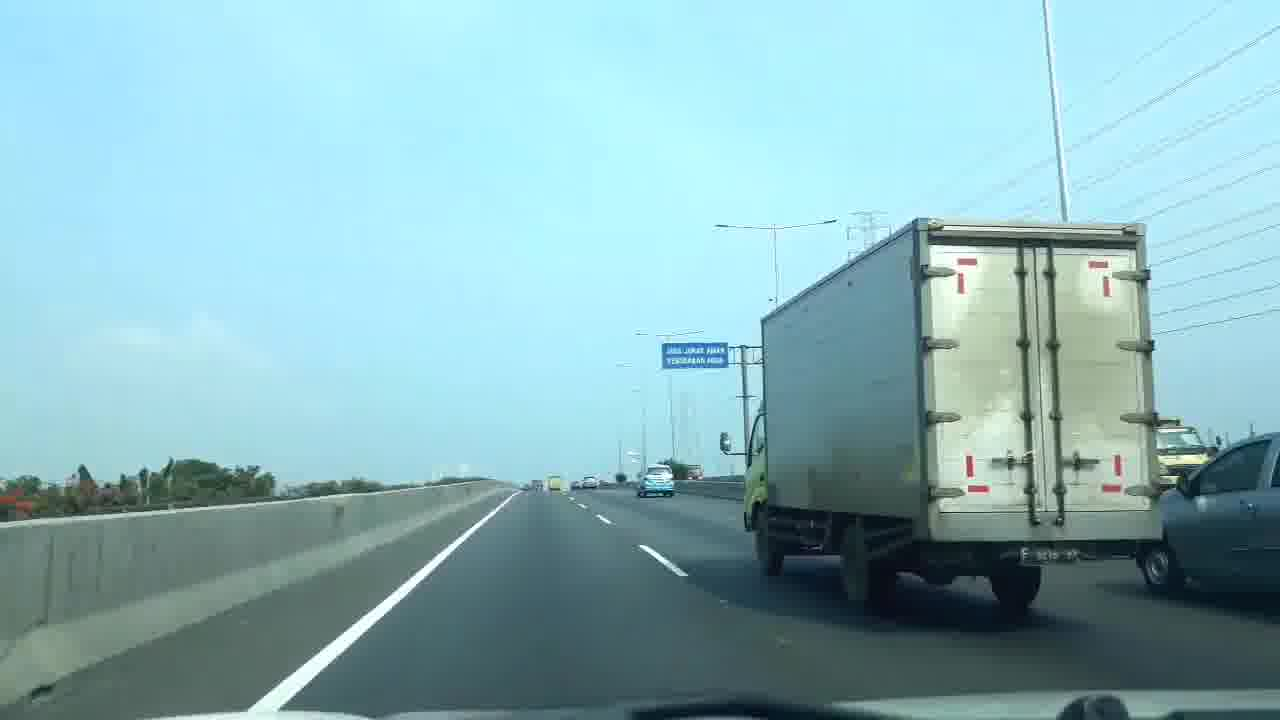plate_positive: (1017, 543, 1089, 567)
